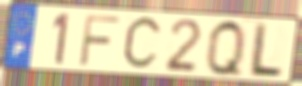1: (50, 12, 70, 67)
2: (164, 18, 204, 75)
C: (120, 14, 165, 74)
F: (77, 13, 123, 69)
L: (245, 21, 286, 80)
Q: (206, 17, 247, 80)
